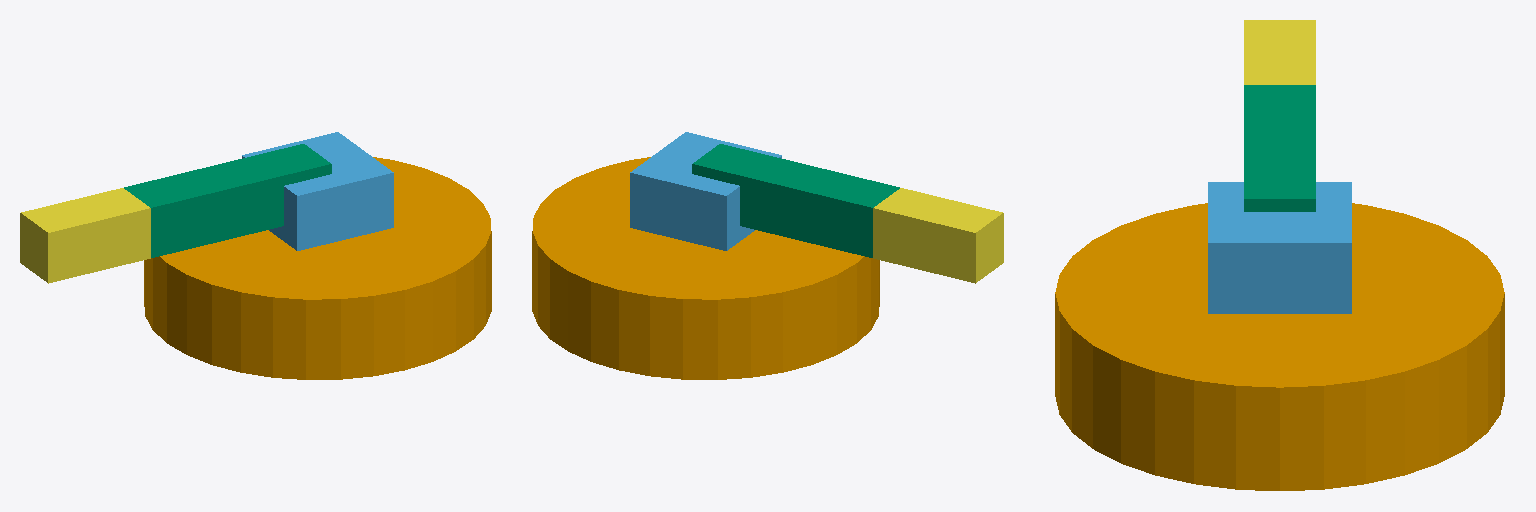
URDF robot description (roco_arm):
<?xml version="1.0"?>
<robot name="roco_arm">
  <link name="base_link">
    <visual>
      <geometry>
        <cylinder length="0.051" radius="0.1"/>
      </geometry>
    </visual>
  </link>

  <link name="arm_turret">
    <visual>
      <geometry>
        <box size="0.064 0.064 0.035"/>
      </geometry>
      <origin rpy="0 0 0" xyz="0 0 0.0175" />
    </visual>
  </link>

  <link name="first_segment">
    <visual>
      <geometry>
        <box size="0.12 0.032 0.032"/>
      </geometry>
      <origin rpy="0 0 0" xyz="-0.06 0 0" />
    </visual>
  </link>

  <link name="second_segment">
    <visual>
      <geometry>
        <box size="0.068 0.032 0.032"/>
      </geometry>
      <origin rpy="0 0 0" xyz="-0.034 0 0" />
    </visual>
  </link>

 <joint name="turret_swivel" type="continuous">
    <axis xyz="0 0 1" />
    <parent link="base_link"/>
    <child link="arm_turret"/>
    <origin xyz="0 0 0.03" />
  </joint>

  <joint name="turret_to_first" type="revolute">
    <axis xyz="0 1 0" />
    <limit effort="1000" lower="0" upper="1.05" velocity="0.3" />
    <parent link="arm_turret"/>
    <child link="first_segment"/>
    <origin xyz="0 0 0.0255" />
  </joint>

<joint name="first_to_second" type="revolute">
    <axis xyz="0 1 0" />
    <limit effort="1000" lower="-1.57" upper="1.57" velocity="0.3" />
    <parent link="first_segment"/>
    <child link="second_segment"/>
    <origin xyz="-0.12 0 0" />
  </joint>

</robot>

--- Facts derived from the render (not from the file) ---
3 views of the same robot in one strip: view 1: azimuth 30°, elevation 25°; view 2: azimuth 150°, elevation 25°; view 3: azimuth 270°, elevation 25° (orthographic).
Robot: roco_arm — 4 links, 3 joints (2 revolute, 1 continuous); root link base_link; default pose: every joint at zero.
Visible links, largest first — view 1: base_link, first_segment, second_segment, arm_turret; view 2: base_link, first_segment, second_segment, arm_turret; view 3: base_link, arm_turret, first_segment, second_segment.
Link boxes in pixels (x1,y1,x2,y2): base_link: (144,157,491,379); first_segment: (124,144,331,257); second_segment: (20,188,150,283); arm_turret: (242,132,393,250); base_link: (532,157,879,379); first_segment: (692,144,899,257); second_segment: (873,188,1003,283); arm_turret: (630,132,781,250); base_link: (1055,203,1504,490); arm_turret: (1208,182,1351,313); first_segment: (1244,85,1315,211); second_segment: (1244,20,1315,84).
Size in the robot's own frame: 0.288 by 0.2 by 0.097 metres.
Geometry: primitives only (box / cylinder / sphere), no mesh files.
